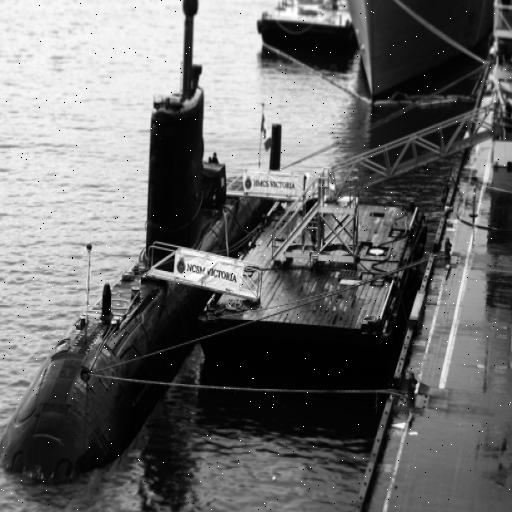submarine: (1, 1, 279, 474)
